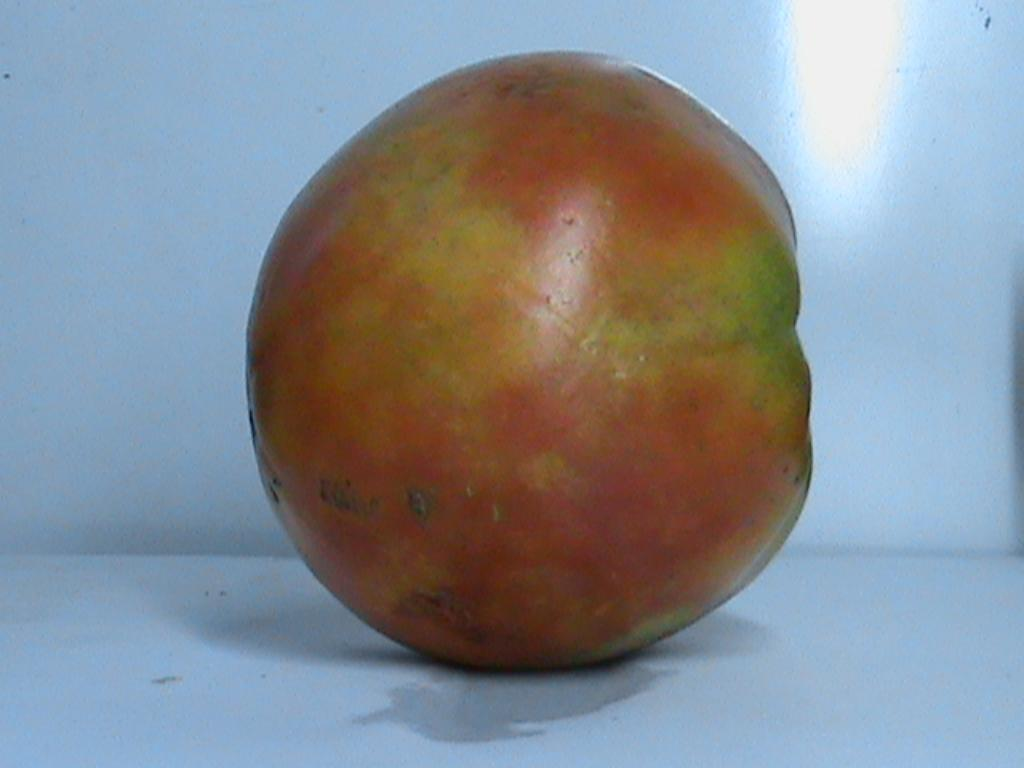bruise_discoloration: (573, 501, 804, 658), (702, 230, 814, 416), (405, 488, 435, 522), (322, 482, 354, 509), (363, 499, 378, 510)
tomato: (248, 54, 811, 666)
